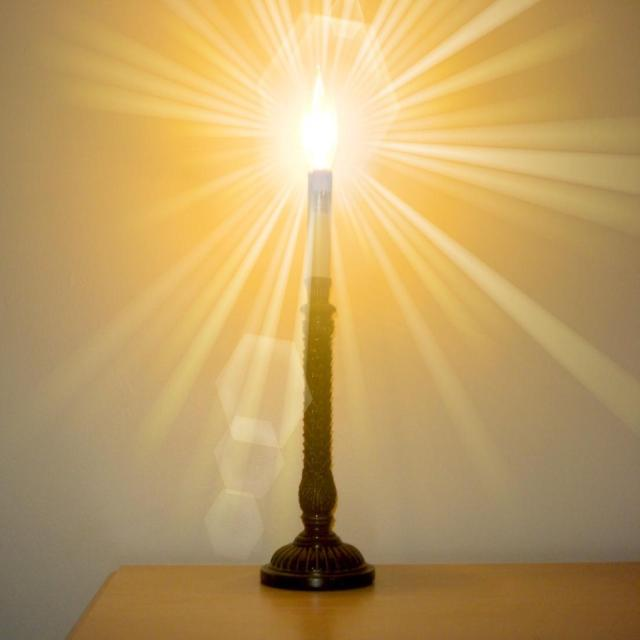other: (278, 71, 374, 168)
